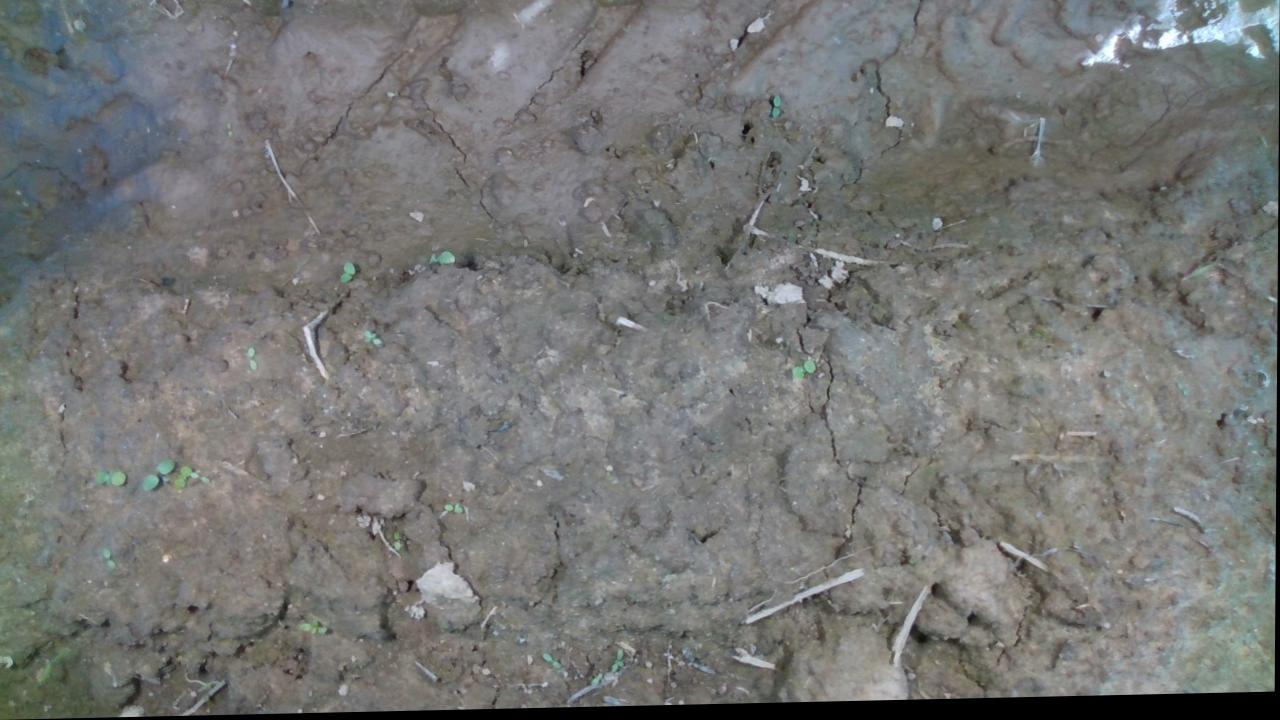weed: (144, 454, 178, 496), (787, 356, 821, 385), (93, 463, 129, 489), (334, 259, 359, 289), (295, 619, 331, 636), (438, 498, 470, 515), (359, 328, 386, 347), (389, 532, 406, 553)
